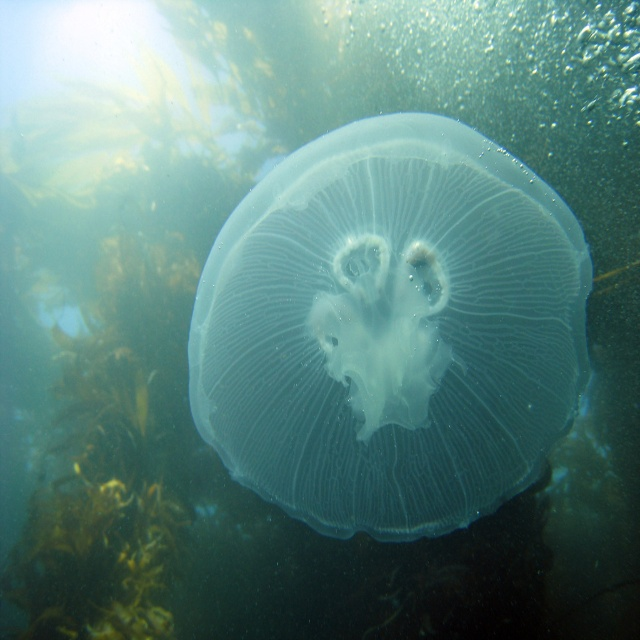Jellyfish: (187, 113, 593, 543)
